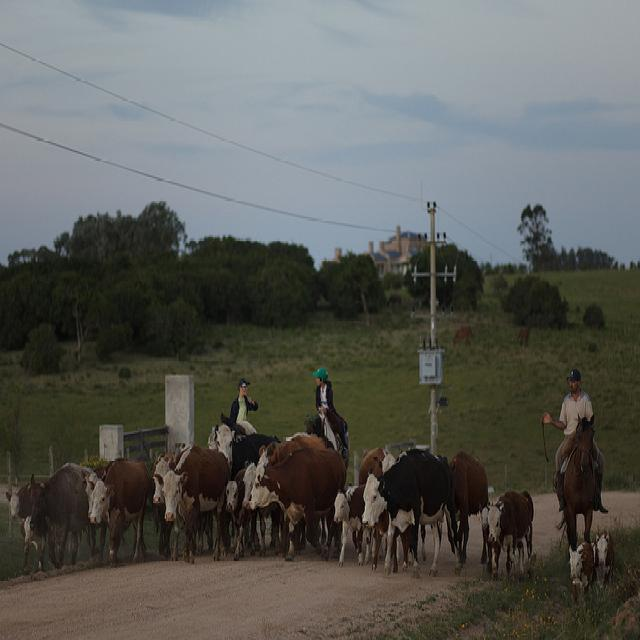cow: (57, 361, 607, 637), (361, 441, 461, 577), (241, 445, 345, 560), (28, 462, 105, 569), (161, 445, 229, 557), (358, 445, 410, 574), (86, 459, 150, 550), (478, 488, 532, 580), (206, 420, 280, 477), (4, 479, 49, 570), (224, 468, 256, 559), (333, 483, 368, 560), (256, 429, 325, 465), (568, 540, 594, 608)
